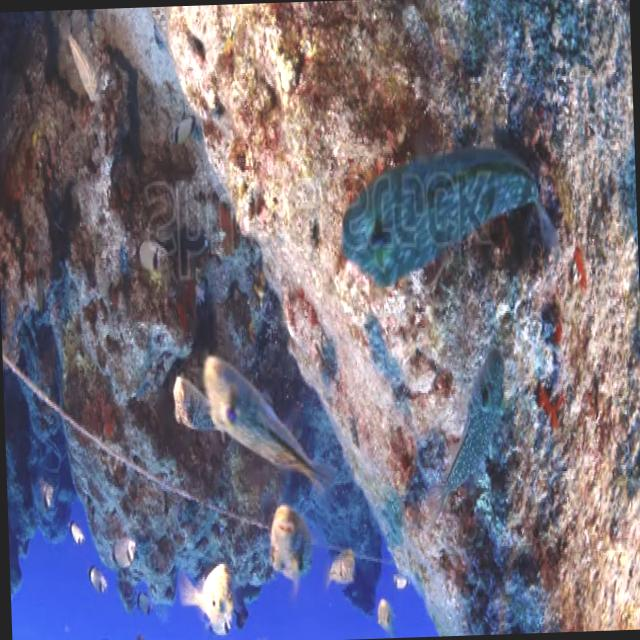Balon Baligi: (334, 140, 560, 296), (200, 350, 326, 496), (428, 354, 508, 522), (265, 507, 313, 591), (193, 559, 237, 630), (322, 542, 358, 592), (366, 586, 400, 638)
